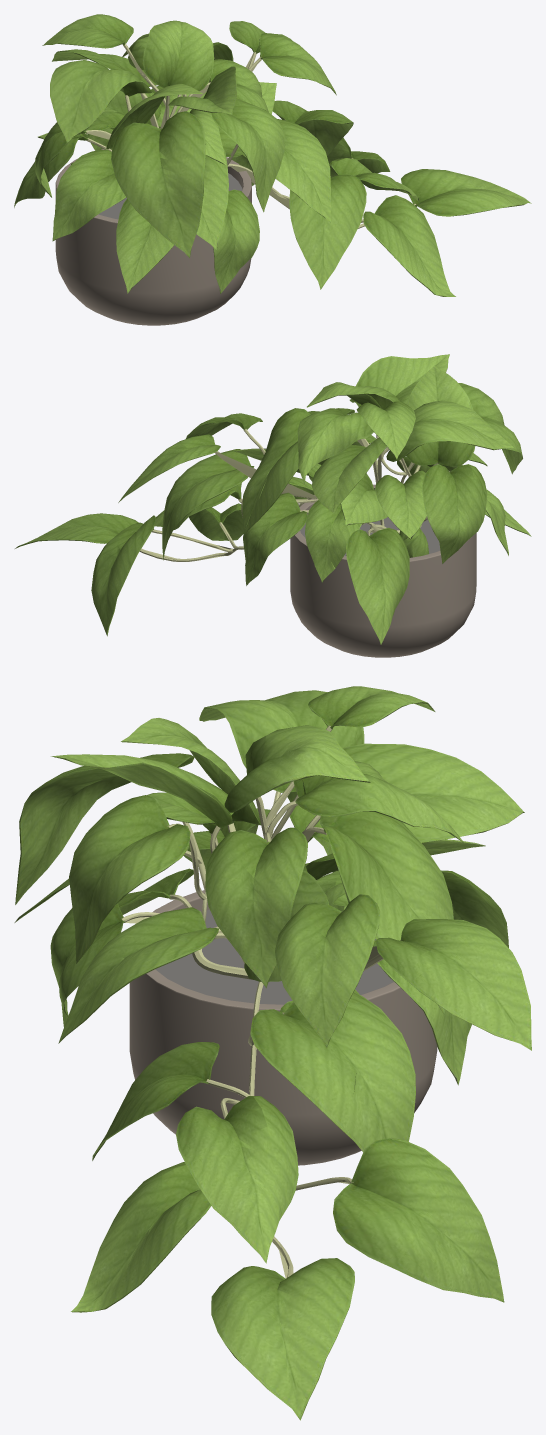
The model's file is sh_blend_swap_cc_0_augalas.glb.
3 renders of one model, top to bottom at view 1: azimuth 30°, elevation 25°; view 2: azimuth 150°, elevation 25°; view 3: azimuth 270°, elevation 25°, orthographic. The views are drawn at different scales.
Bounding box in the file's own units: 0.609 × 0.315 × 0.349.
4 materials, 1 textured.
